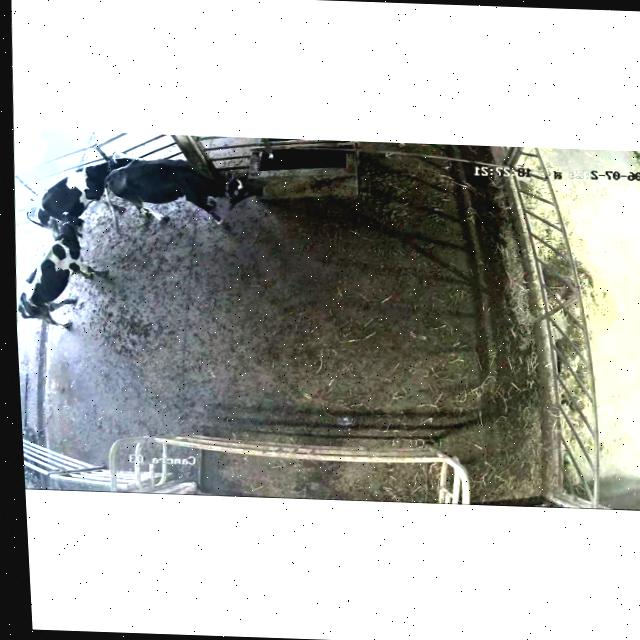stand: (103, 158, 251, 228), (16, 219, 109, 328), (27, 157, 131, 235)
